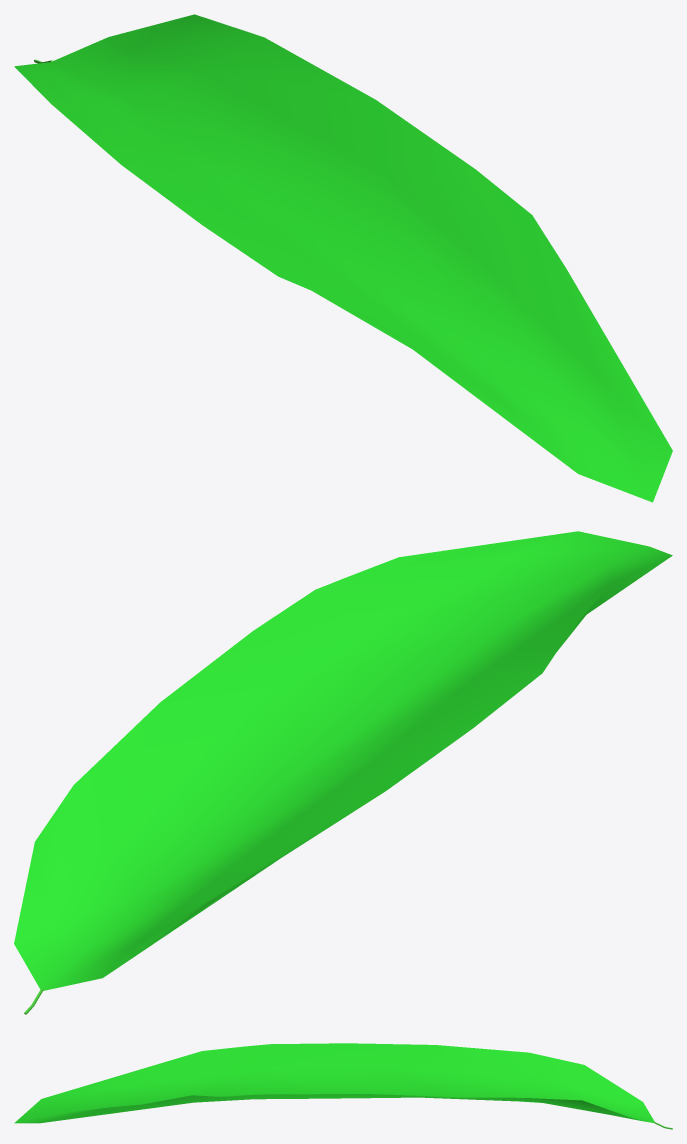
The model's file is leaf2 vol.2.fbx.
3 renders of one model, top to bottom at view 1: azimuth 30°, elevation 25°; view 2: azimuth 150°, elevation 25°; view 3: azimuth 270°, elevation 25°, orthographic. The views are drawn at different scales.
Parts seen in each view (by area): view 1: Plane; view 2: Plane; view 3: Plane.
Part boxes in pixels (x1=…): Plane: x1=14, y1=14, x2=672, y2=502; Plane: x1=14, y1=531, x2=672, y2=990; Plane: x1=14, y1=1043, x2=654, y2=1123.
Size of the model in its own units: 261 by 112 by 1135.
